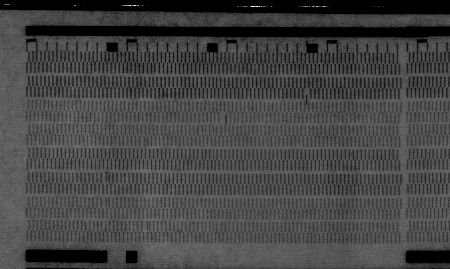Broken hole: (217, 111, 229, 124)
Oblique printing: (302, 87, 313, 102), (100, 172, 110, 185)
